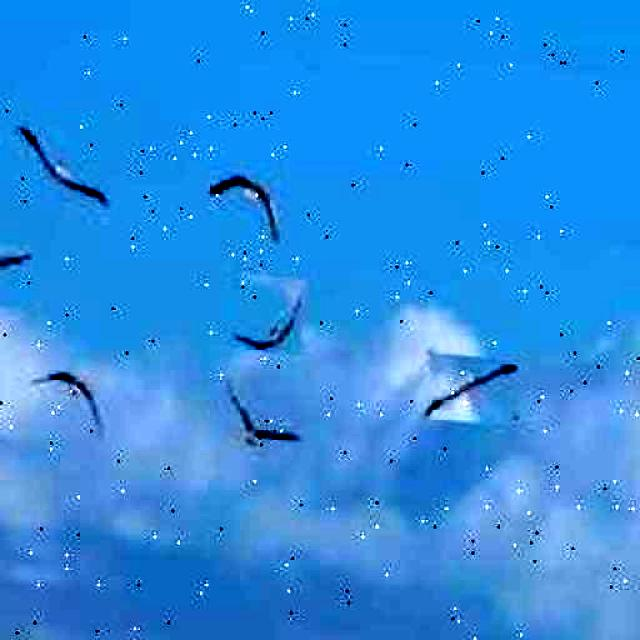airplane: (11, 125, 111, 208), (424, 351, 518, 425), (25, 366, 108, 440), (231, 272, 305, 354), (219, 382, 301, 454), (206, 170, 282, 246), (0, 241, 34, 309)
